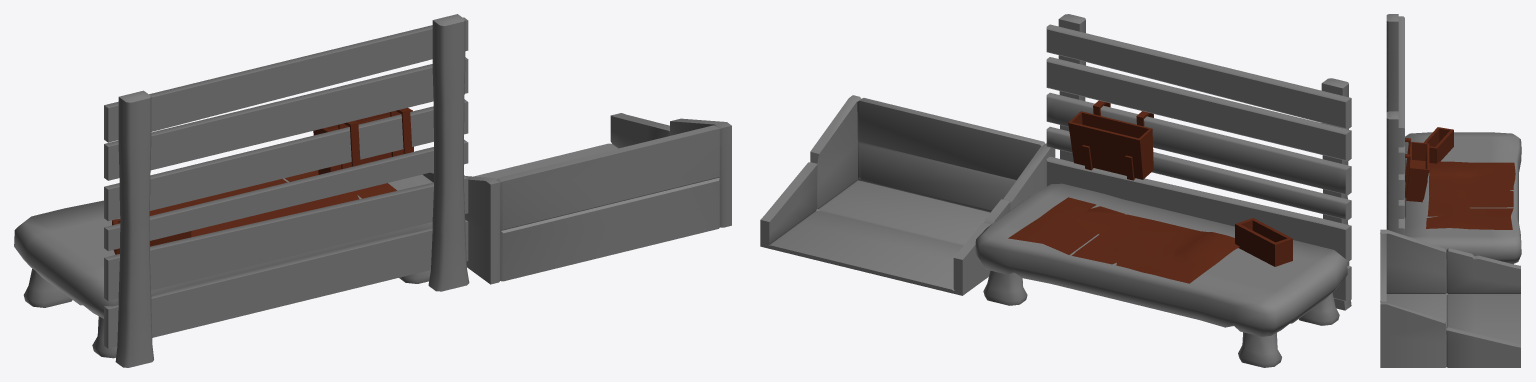
File: ST_Craft.fbx
3 renders of one model, left to right at view 1: azimuth 30°, elevation 25°; view 2: azimuth 150°, elevation 25°; view 3: azimuth 270°, elevation 25°, orthographic. The views are drawn at different scales.
Parts seen in each view (by area): view 1: ST_Craft; view 2: ST_Craft; view 3: ST_Craft.
Boxes of the visible parts, x1,y1,x2,y2 form: ST_Craft: (14,14,731,367); ST_Craft: (760,14,1351,367); ST_Craft: (1380,14,1521,367).
Size of the model in its own units: 599 by 249 by 187.
